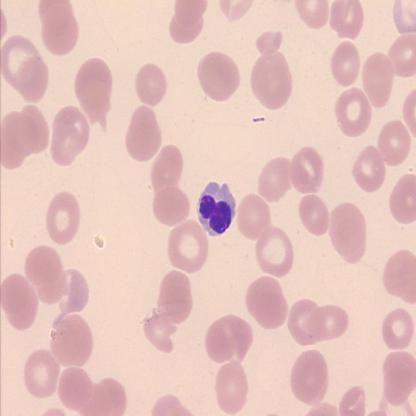NRC: (194, 177, 239, 236)
